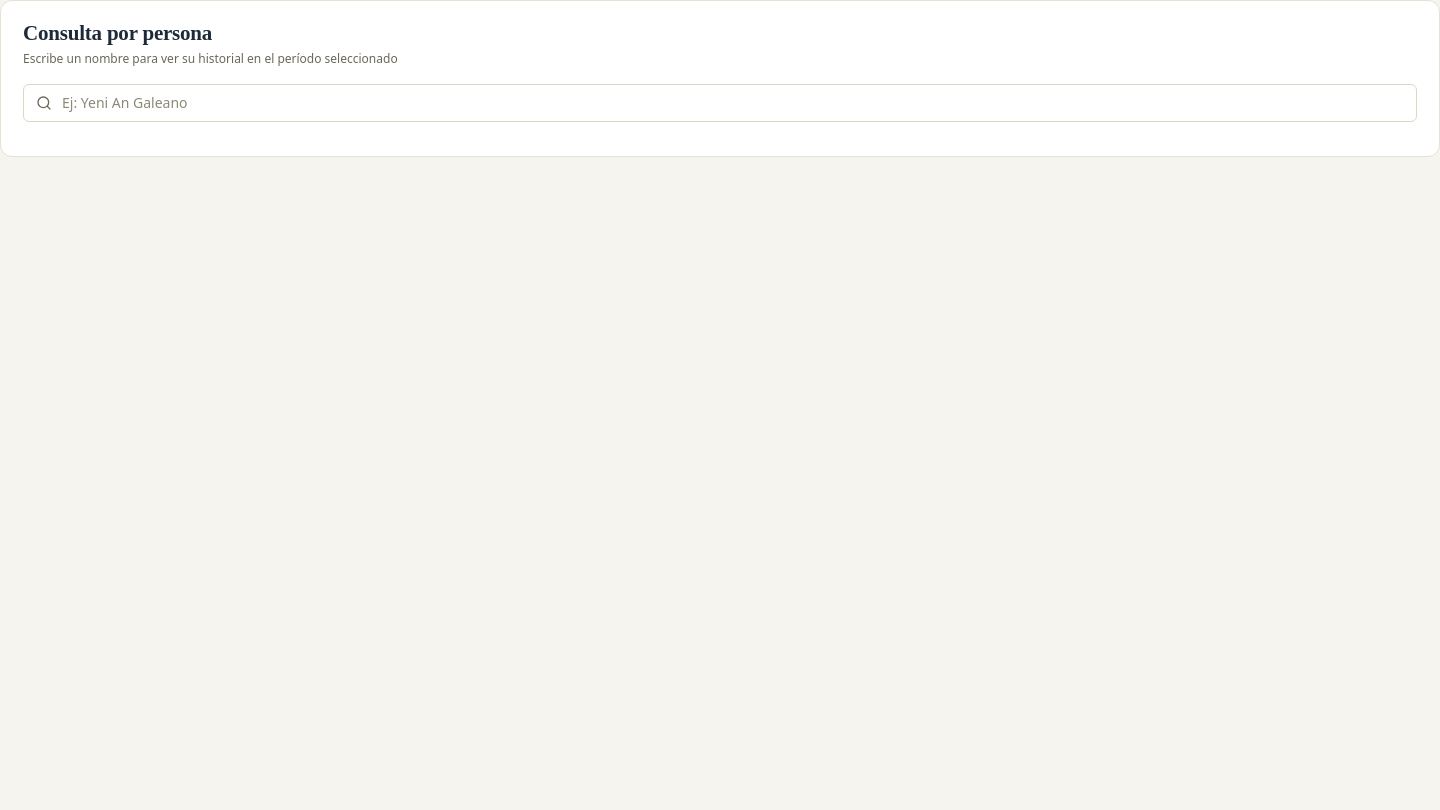
ConsultaPersona › dibuja máximo 200 filas con muchos resultados
Type "a" into the search field at (732, 103), box x1=60 y1=93 x2=1404 y2=113
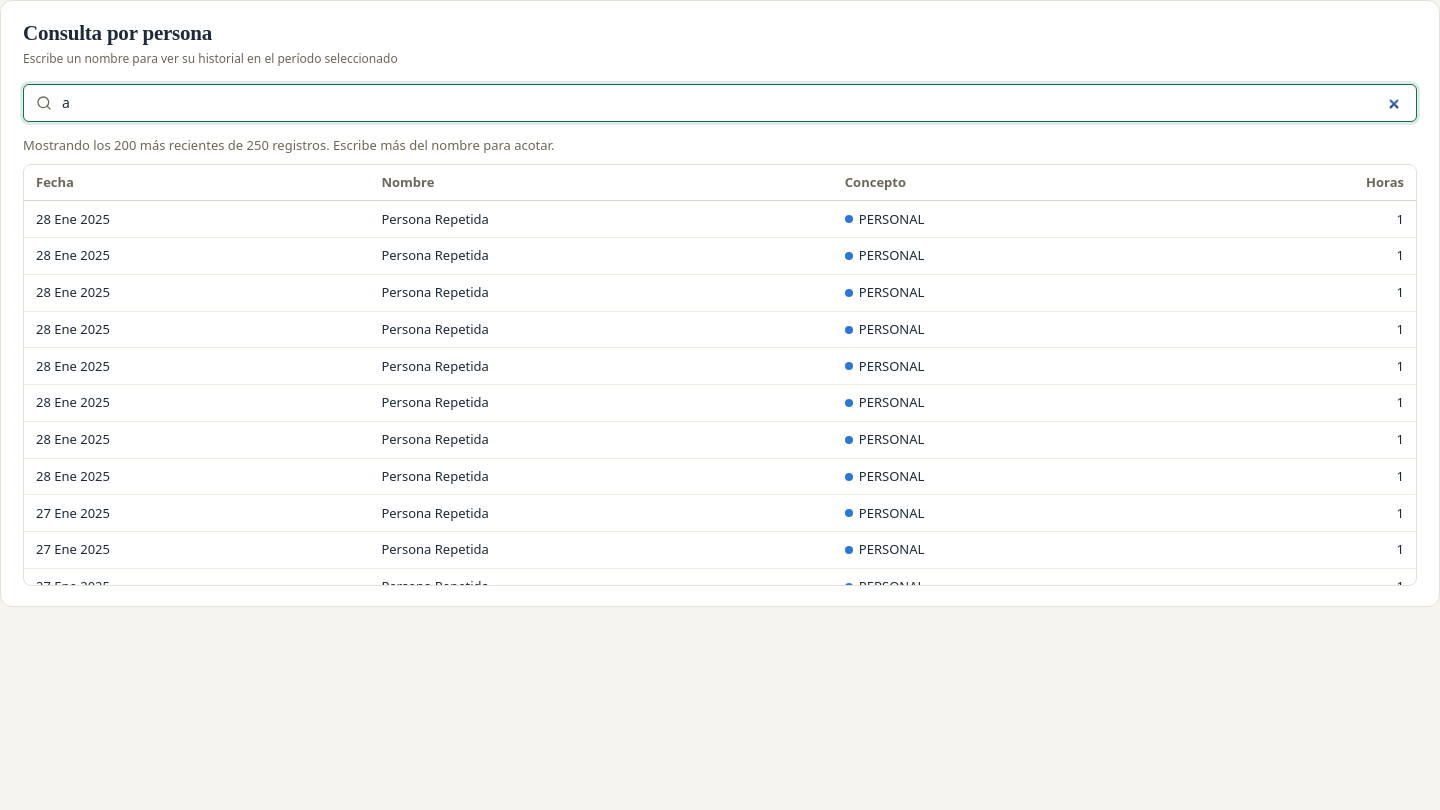
expect the text "Mostrando los 200 más recientes de 250" is shown: met, box x1=23 y1=136 x2=554 y2=154
